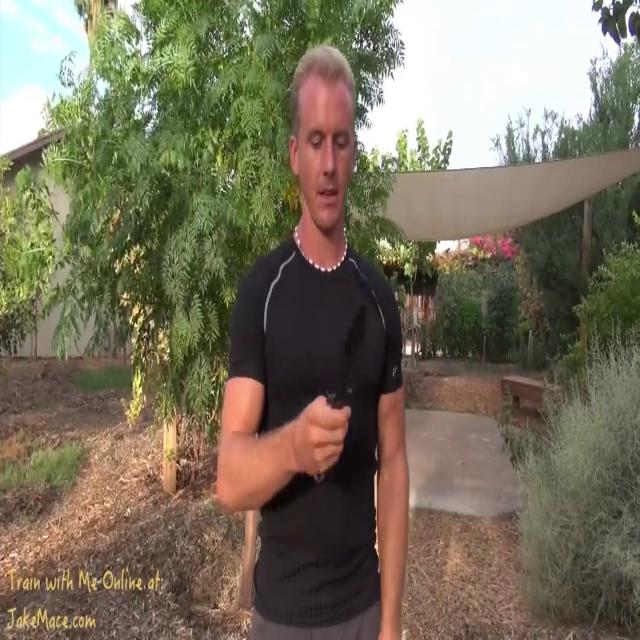knife: (321, 279, 378, 417)
